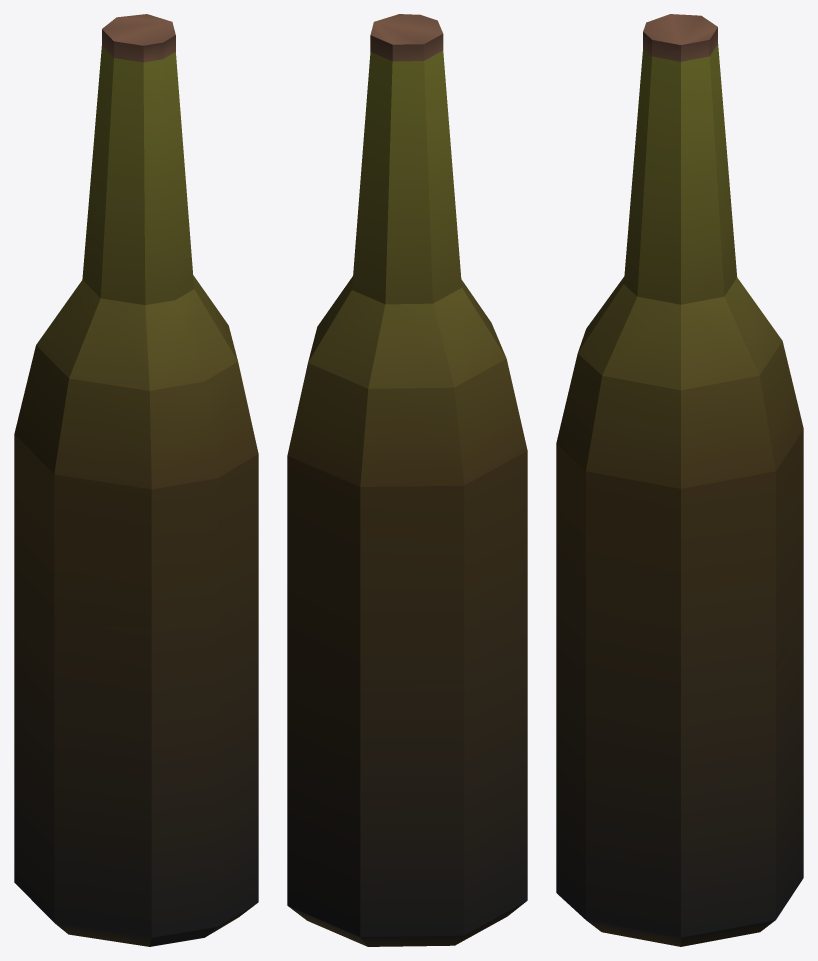
The model's file is Prop_WineBottleA.fbx.
3 views of the same model, side by side, from view 1: azimuth 30°, elevation 25°; view 2: azimuth 150°, elevation 25°; view 3: azimuth 270°, elevation 25° (orthographic).
Parts seen in each view (by area): view 1: Prop_WineBottleA; view 2: Prop_WineBottleA; view 3: Prop_WineBottleA.
Part boxes in pixels (x1,y1,x2,y2): Prop_WineBottleA: (14,14,258,946); Prop_WineBottleA: (287,14,527,946); Prop_WineBottleA: (556,14,803,946).
Size of the model in its own units: 11.58 by 45.87 by 11.78.
